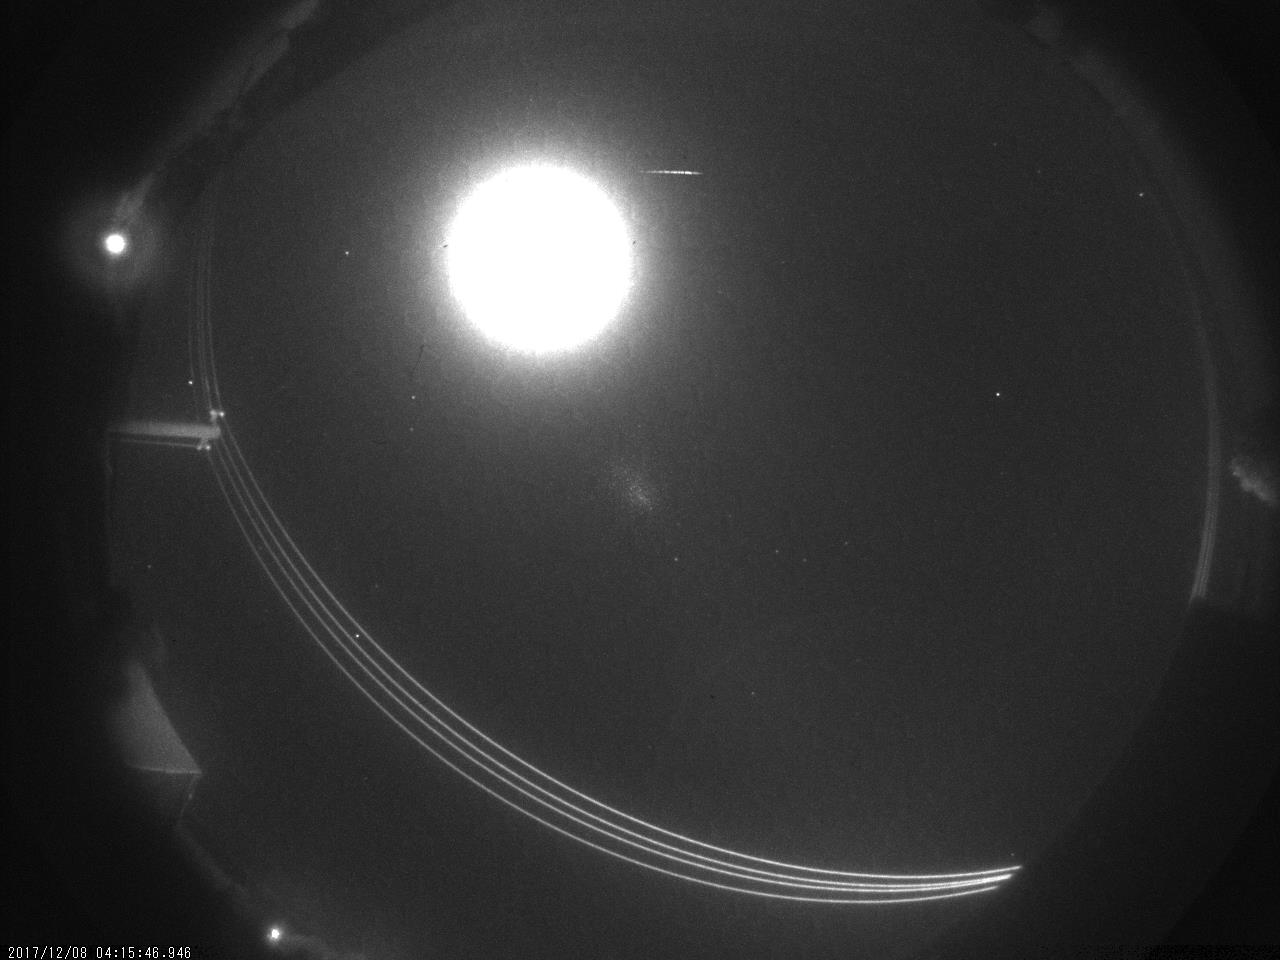meteor: (640, 155, 710, 183)
